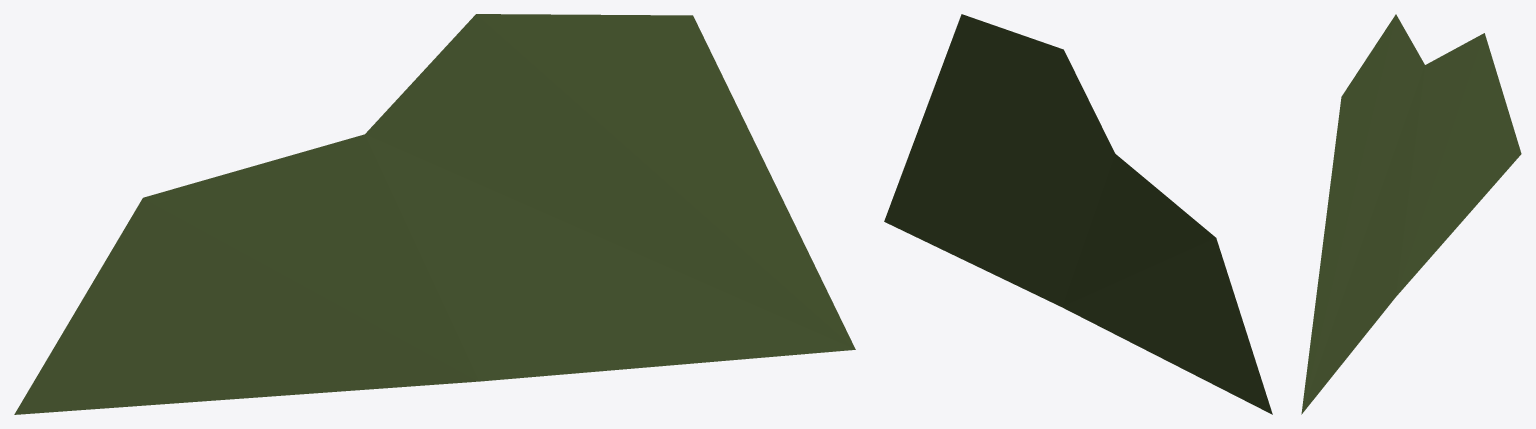
Rendered from SM_Env_Background_Island_04.glb.
3 views of the same model, side by side, from view 1: azimuth 30°, elevation 25°; view 2: azimuth 150°, elevation 25°; view 3: azimuth 270°, elevation 25° (orthographic). The views are drawn at different scales.
Visible parts, largest first — view 1: SM_Env_Background_Island_04_part00; view 2: SM_Env_Background_Island_04_part00; view 3: SM_Env_Background_Island_04_part00.
Part boxes in pixels (box(x1,y1,x2,y2)): SM_Env_Background_Island_04_part00: box(14, 14, 855, 414); SM_Env_Background_Island_04_part00: box(884, 14, 1272, 414); SM_Env_Background_Island_04_part00: box(1301, 14, 1521, 414).
Bounding box in the file's own units: 13.07 × 6.59 × 4.66.
Materials: 1 (1 with a texture image).
